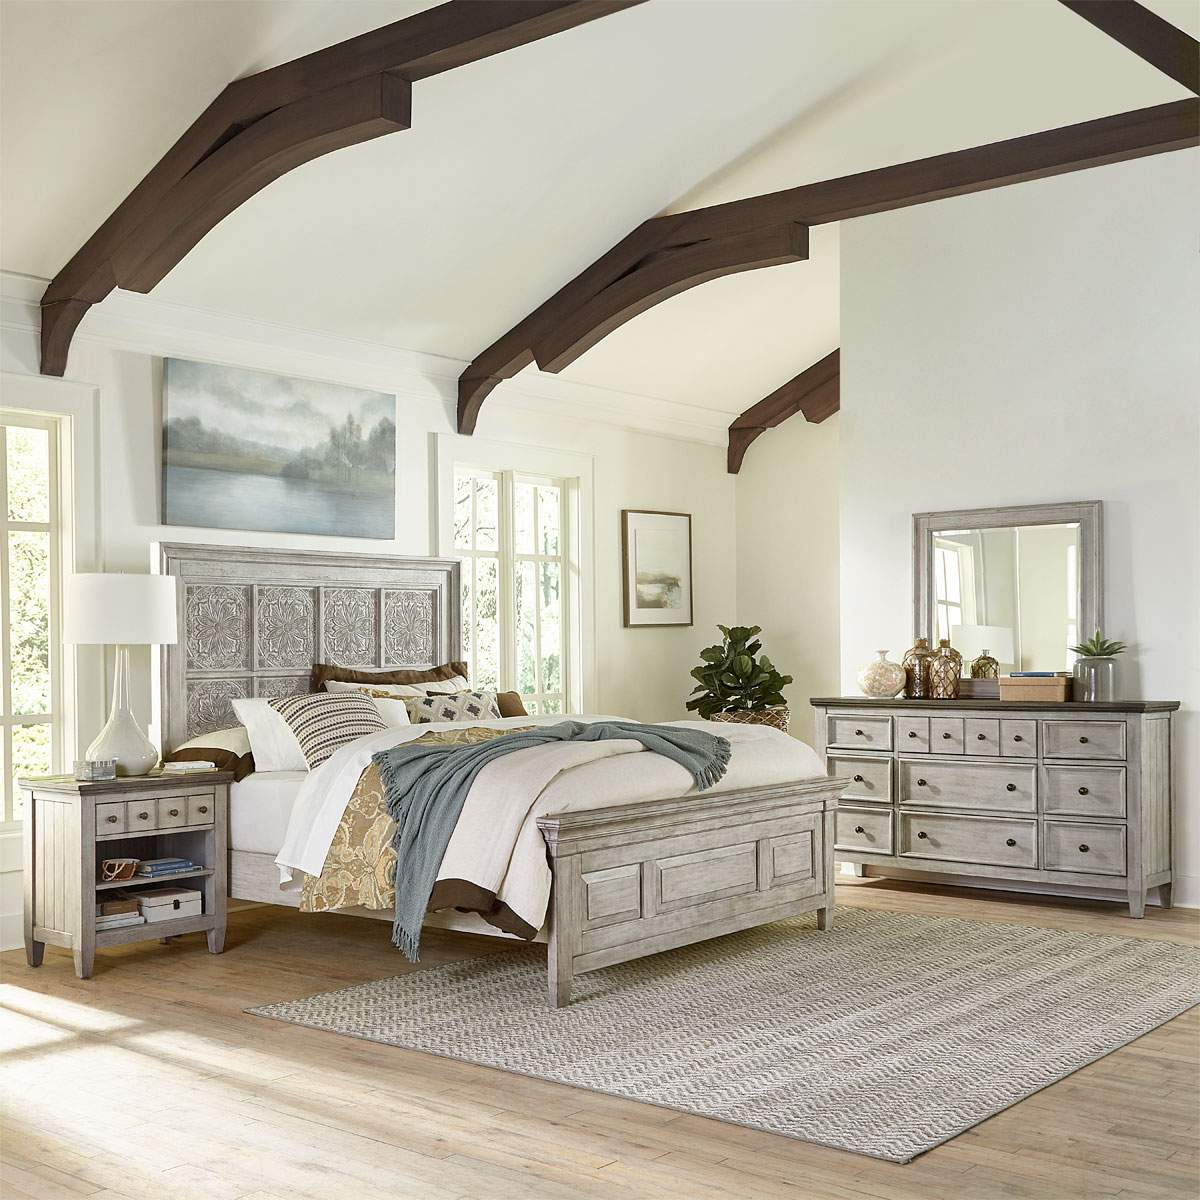bed: (168, 605, 834, 989)
dresser: (814, 698, 1179, 921)
lamp: (62, 573, 179, 775)
night stand: (14, 773, 230, 976)
